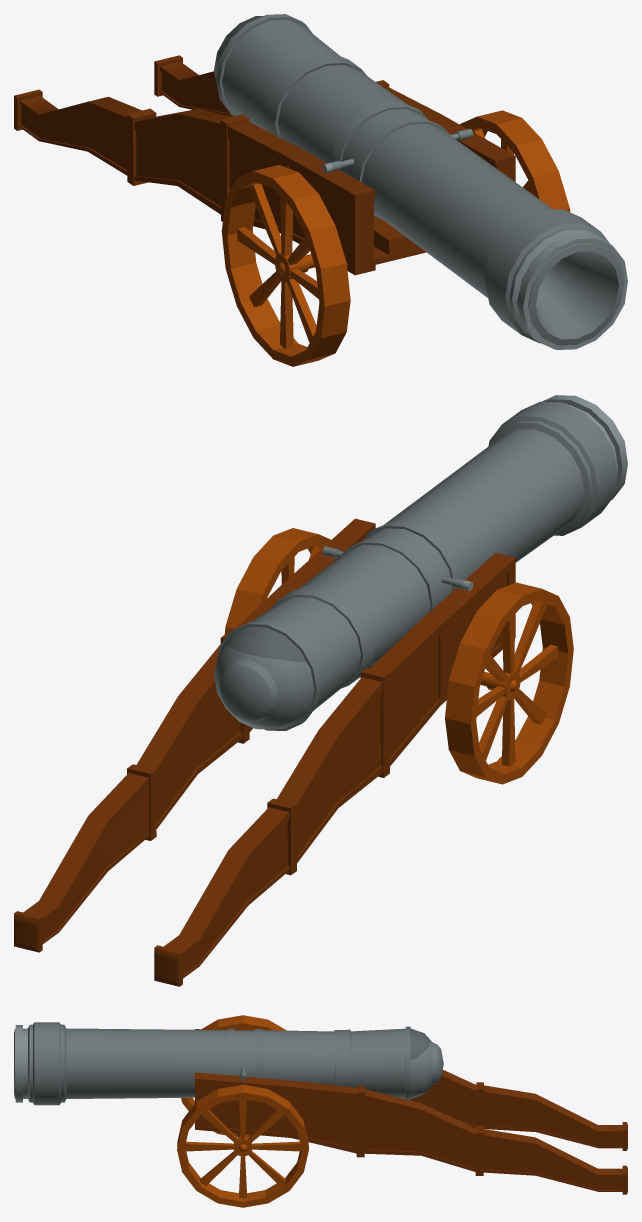
Rendered from SM_cannon.fbx.
The picture shows the model from 3 angles, top to bottom: view 1: azimuth 30°, elevation 25°; view 2: azimuth 150°, elevation 25°; view 3: azimuth 270°, elevation 25°; orthographic projection. The views are drawn at different scales.
Visible parts, largest first — view 1: cannon, wheel_r, wheel_l; view 2: cannon, wheel_r, wheel_l; view 3: cannon, wheel_l, wheel_r.
Boxes of the visible parts, <box> form: cannon: <box>14,14,627,349</box>; wheel_r: <box>221,165,350,366</box>; wheel_l: <box>460,110,570,211</box>; cannon: <box>14,395,627,986</box>; wheel_r: <box>445,582,573,784</box>; wheel_l: <box>224,528,330,634</box>; cannon: <box>14,1022,627,1194</box>; wheel_l: <box>177,1084,308,1207</box>; wheel_r: <box>181,1015,286,1137</box>.
Size of the model in its own units: 84.96 by 73.1 by 285.
1 material, 1 textured.
